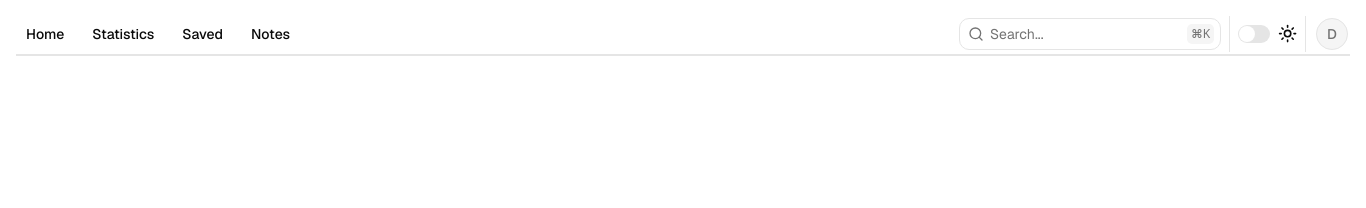
Test case: NavBar Integration Tests › should display user-specific link when authenticated
Click the button "D" at coordinates (1332, 34), box x1=1314 y1=16 x2=1350 y2=52
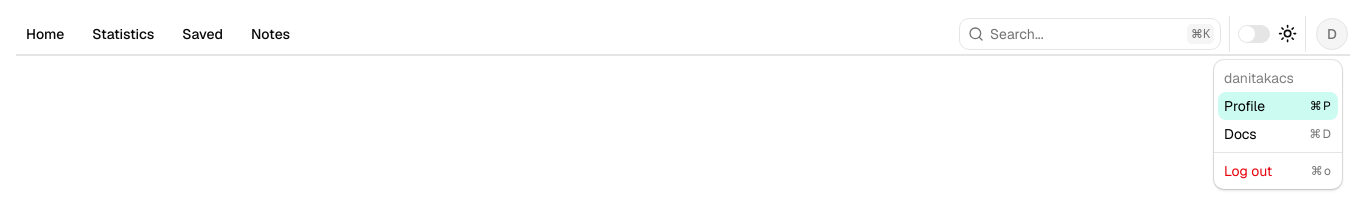
Expected: the menu item "danitakacs" is shown, x1=1224 y1=69 x2=1294 y2=87
Expected: the link "Profile ⌘P" is shown, x1=1224 y1=96 x2=1332 y2=116
